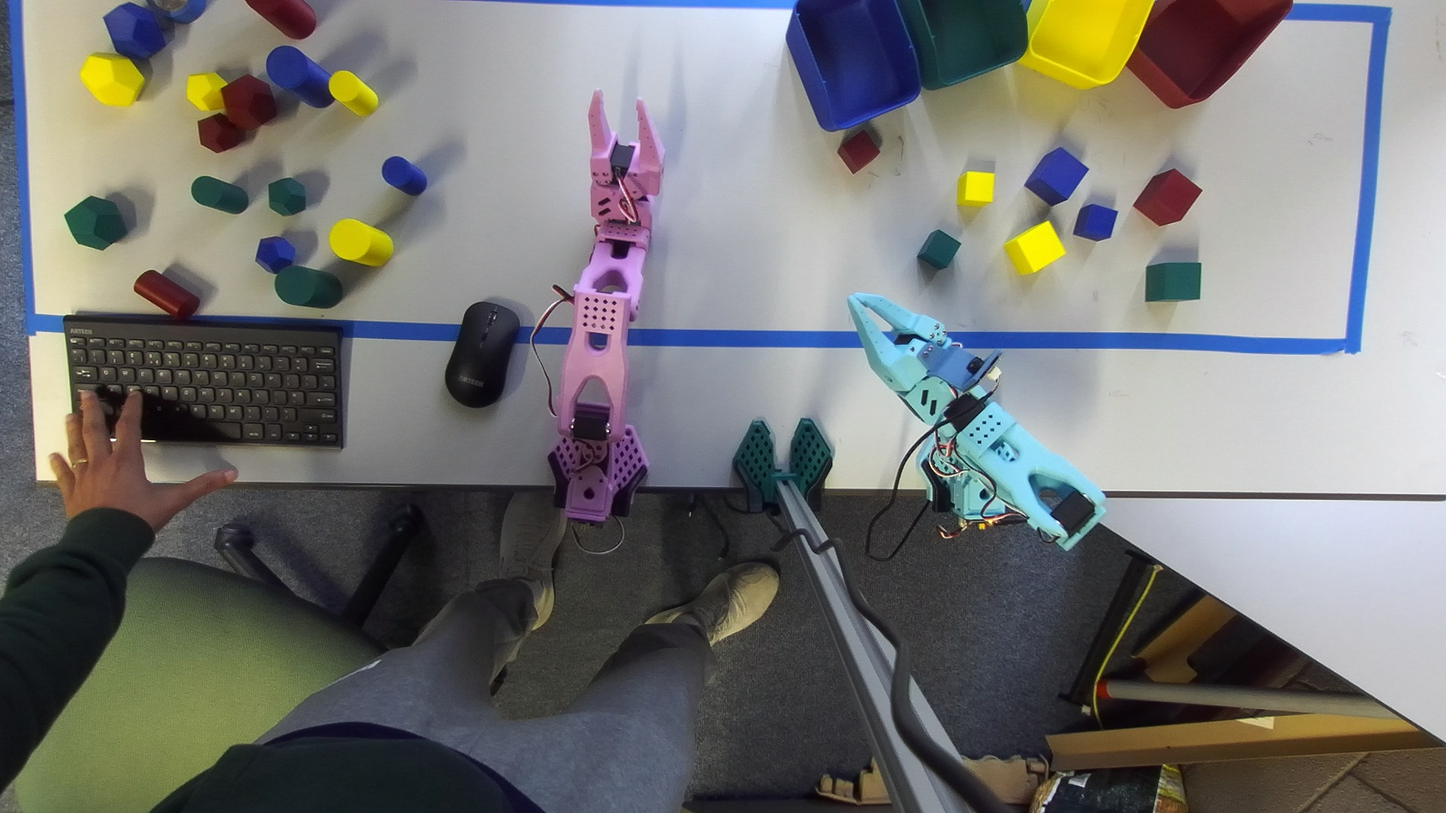bin: (1127, 0, 1292, 108), (786, 0, 920, 130), (1019, 0, 1153, 88), (897, 0, 1028, 88)
cube: (1133, 169, 1201, 225), (1024, 148, 1088, 206), (1004, 221, 1065, 273), (1146, 262, 1201, 302), (837, 126, 880, 173), (917, 230, 960, 270), (1073, 204, 1117, 240), (956, 171, 994, 206)
gripper: (847, 293, 998, 425), (588, 90, 664, 303)
